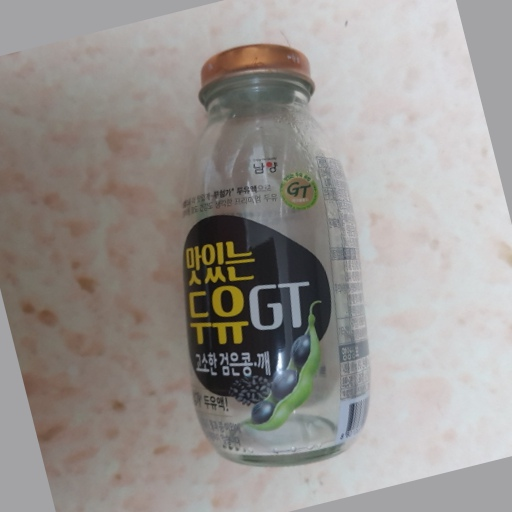Glass_4: (175, 44, 373, 468)
